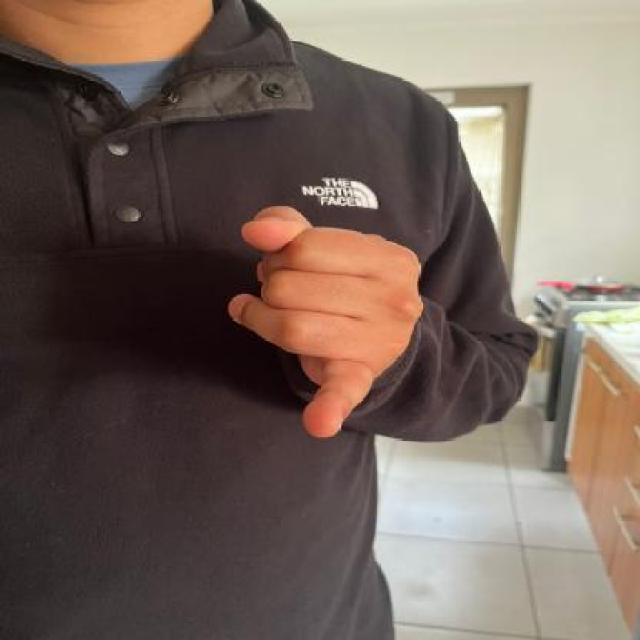Z: (218, 199, 430, 439)
